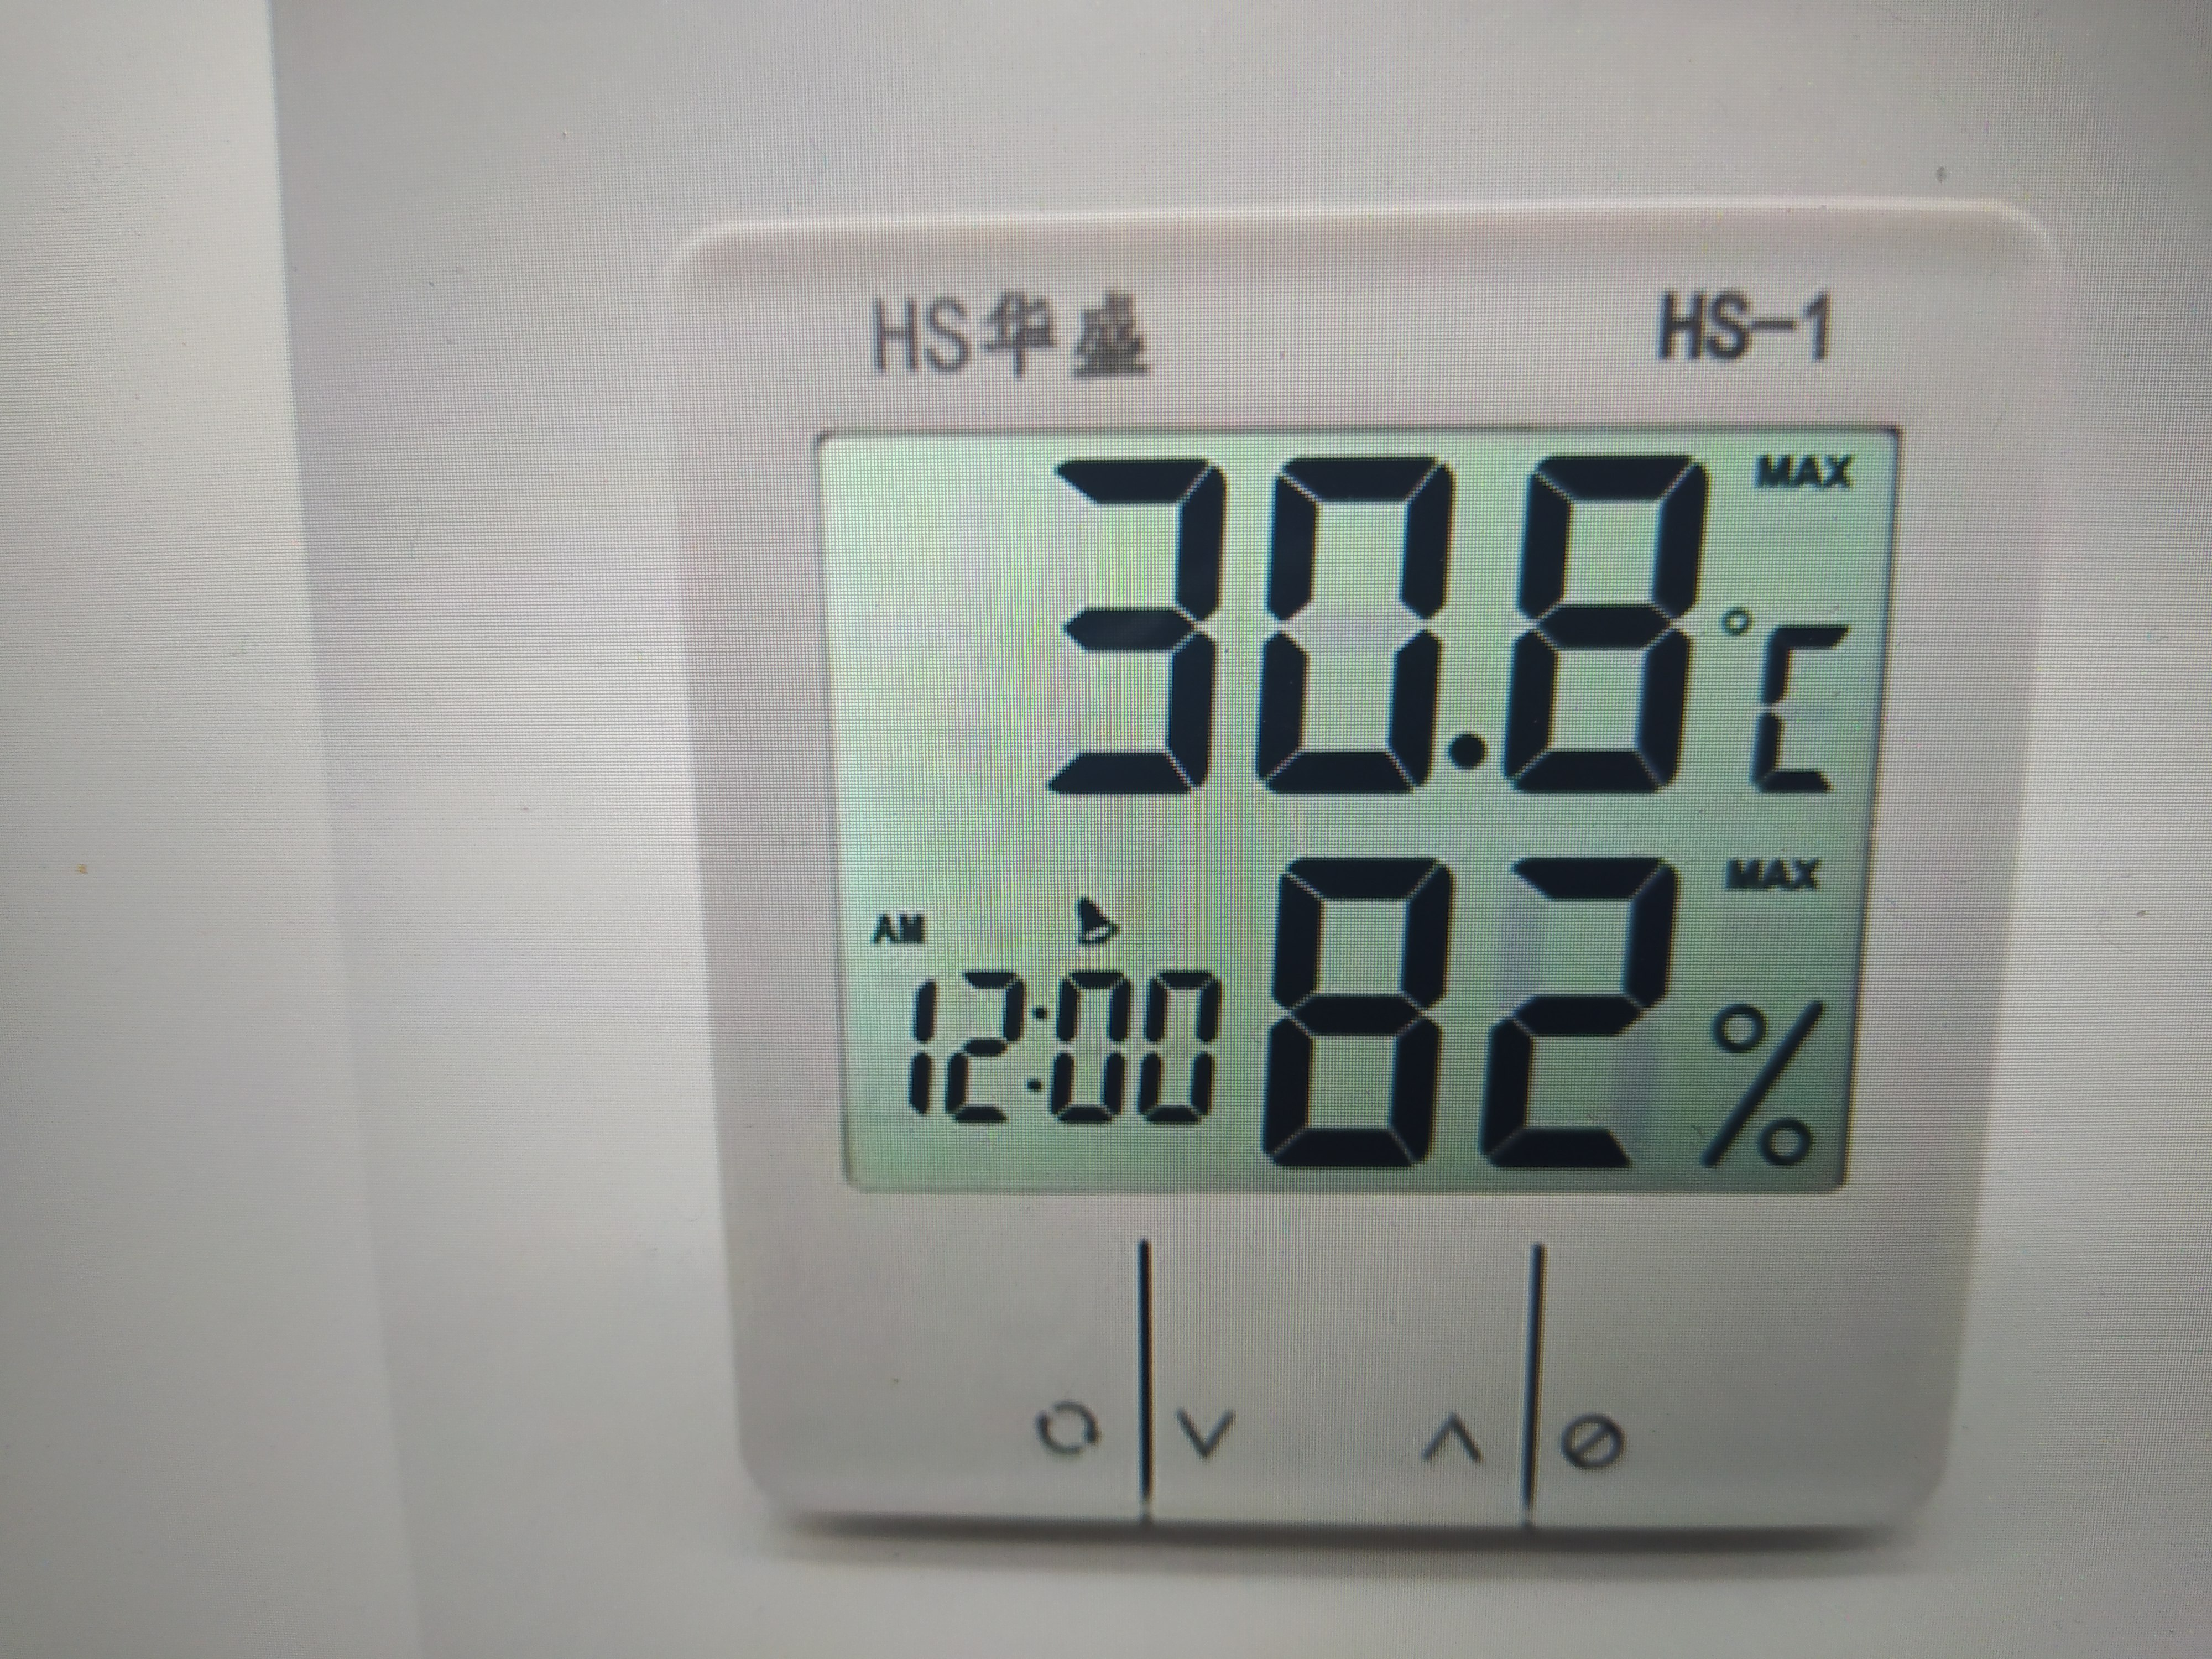.: (1449, 458, 1507, 793)
0: (1256, 455, 1446, 796), (1054, 969, 1136, 1131), (1141, 969, 1223, 1131)
1: (859, 981, 941, 1126), (1789, 286, 1838, 369)
2: (1477, 856, 1676, 1169), (949, 965, 1031, 1127)
3: (1043, 458, 1237, 796)
8: (1507, 451, 1707, 795), (1258, 857, 1460, 1176)
